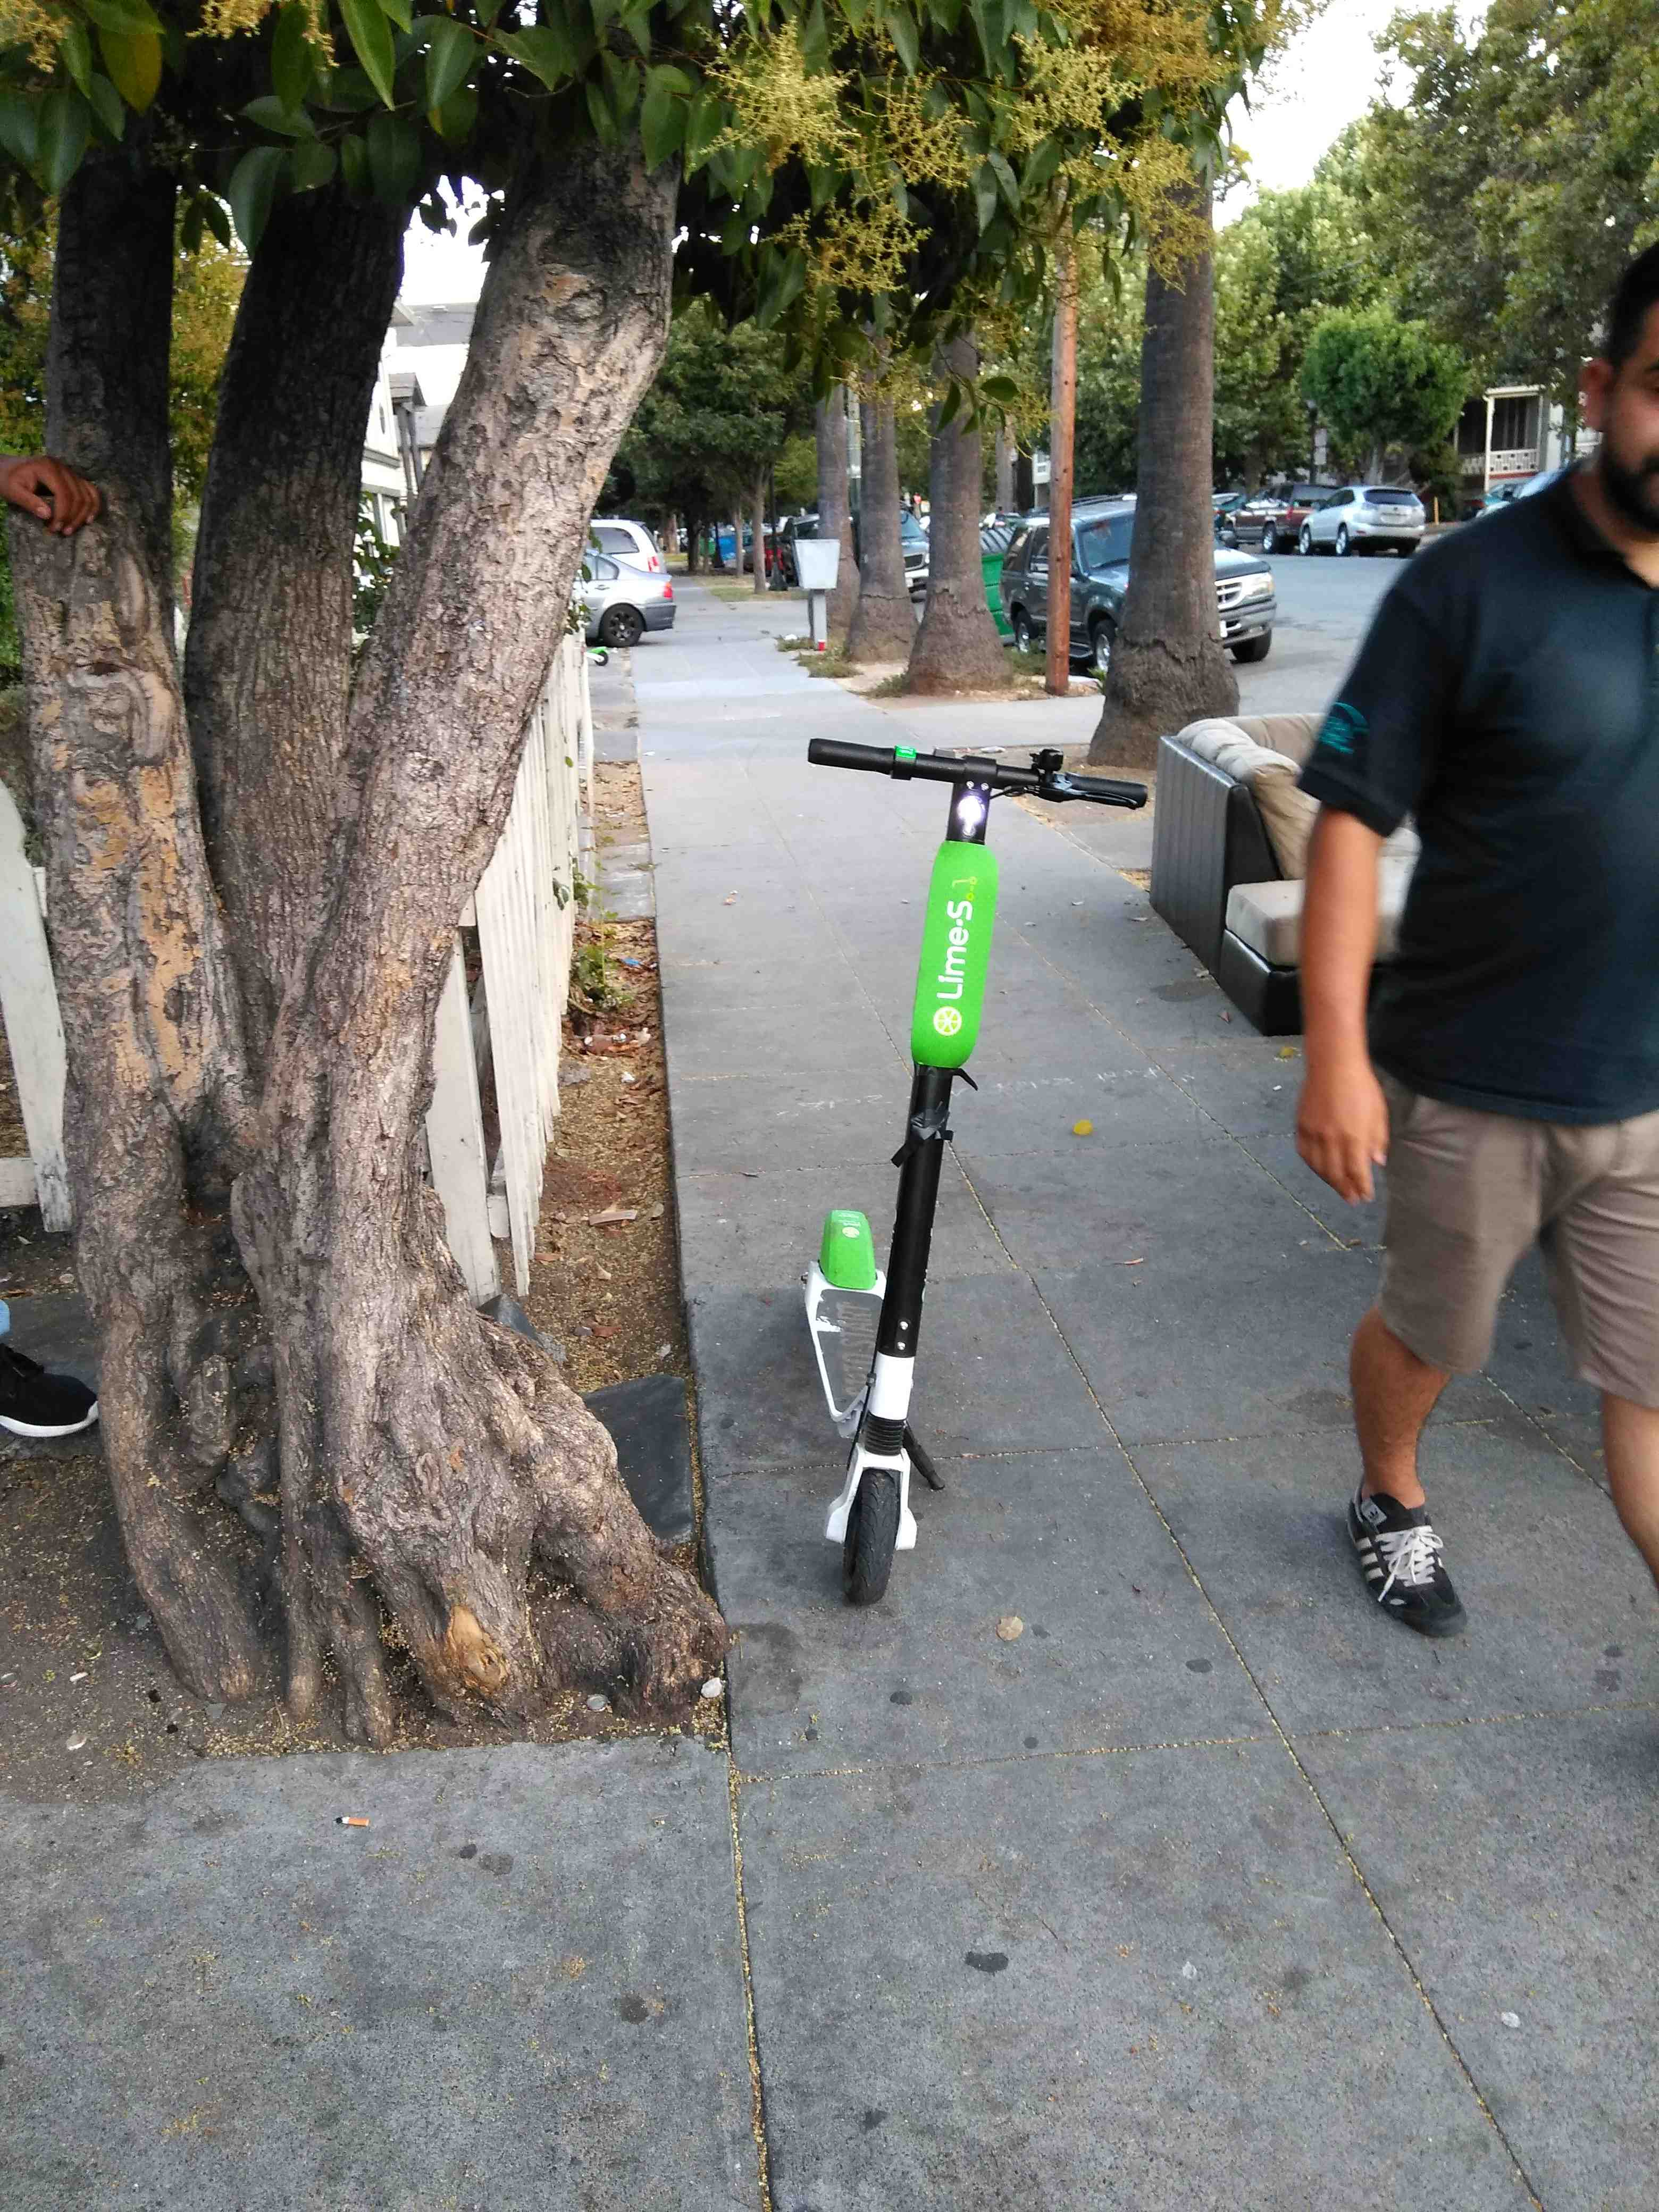scooter: (763, 709, 1129, 1622)
